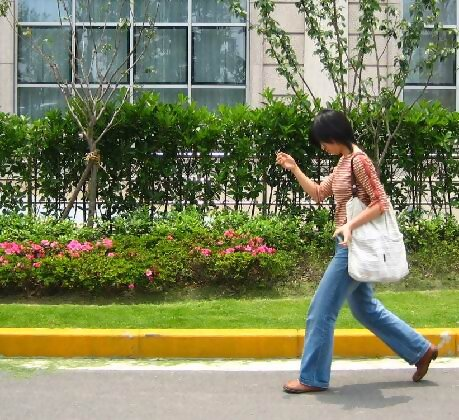person: (274, 103, 445, 397)
